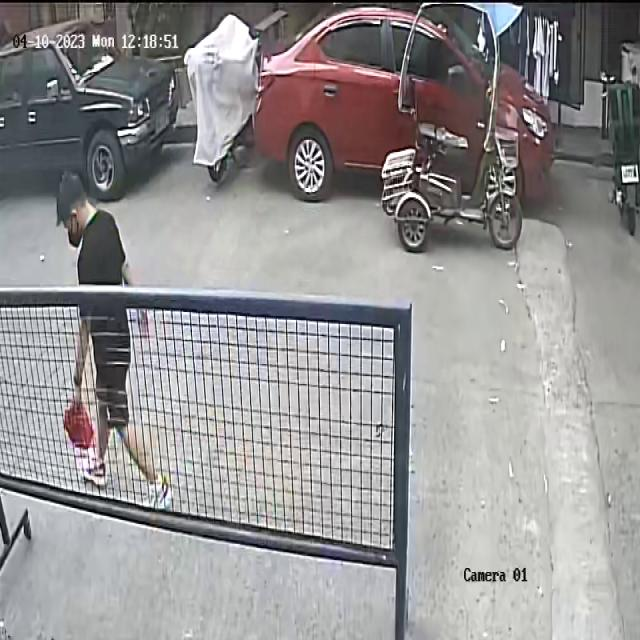garbage_dumping: (62, 390, 95, 453)
